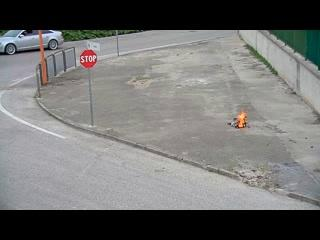fire: (236, 112, 248, 130)
